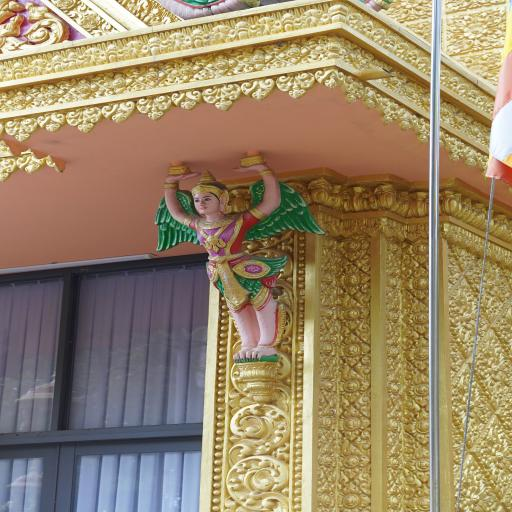la: (212, 453, 295, 512), (225, 400, 292, 458)
than: (123, 143, 329, 401)
